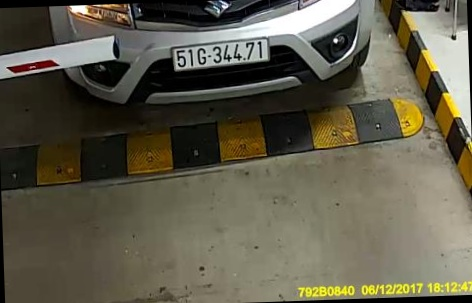plate: (168, 39, 272, 74)
